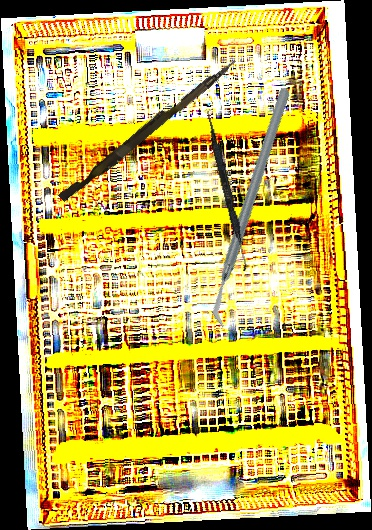Chopper: (135, 86, 369, 331)
Pusher: (58, 52, 238, 207)
Spatula Surgical: (200, 110, 254, 272)
